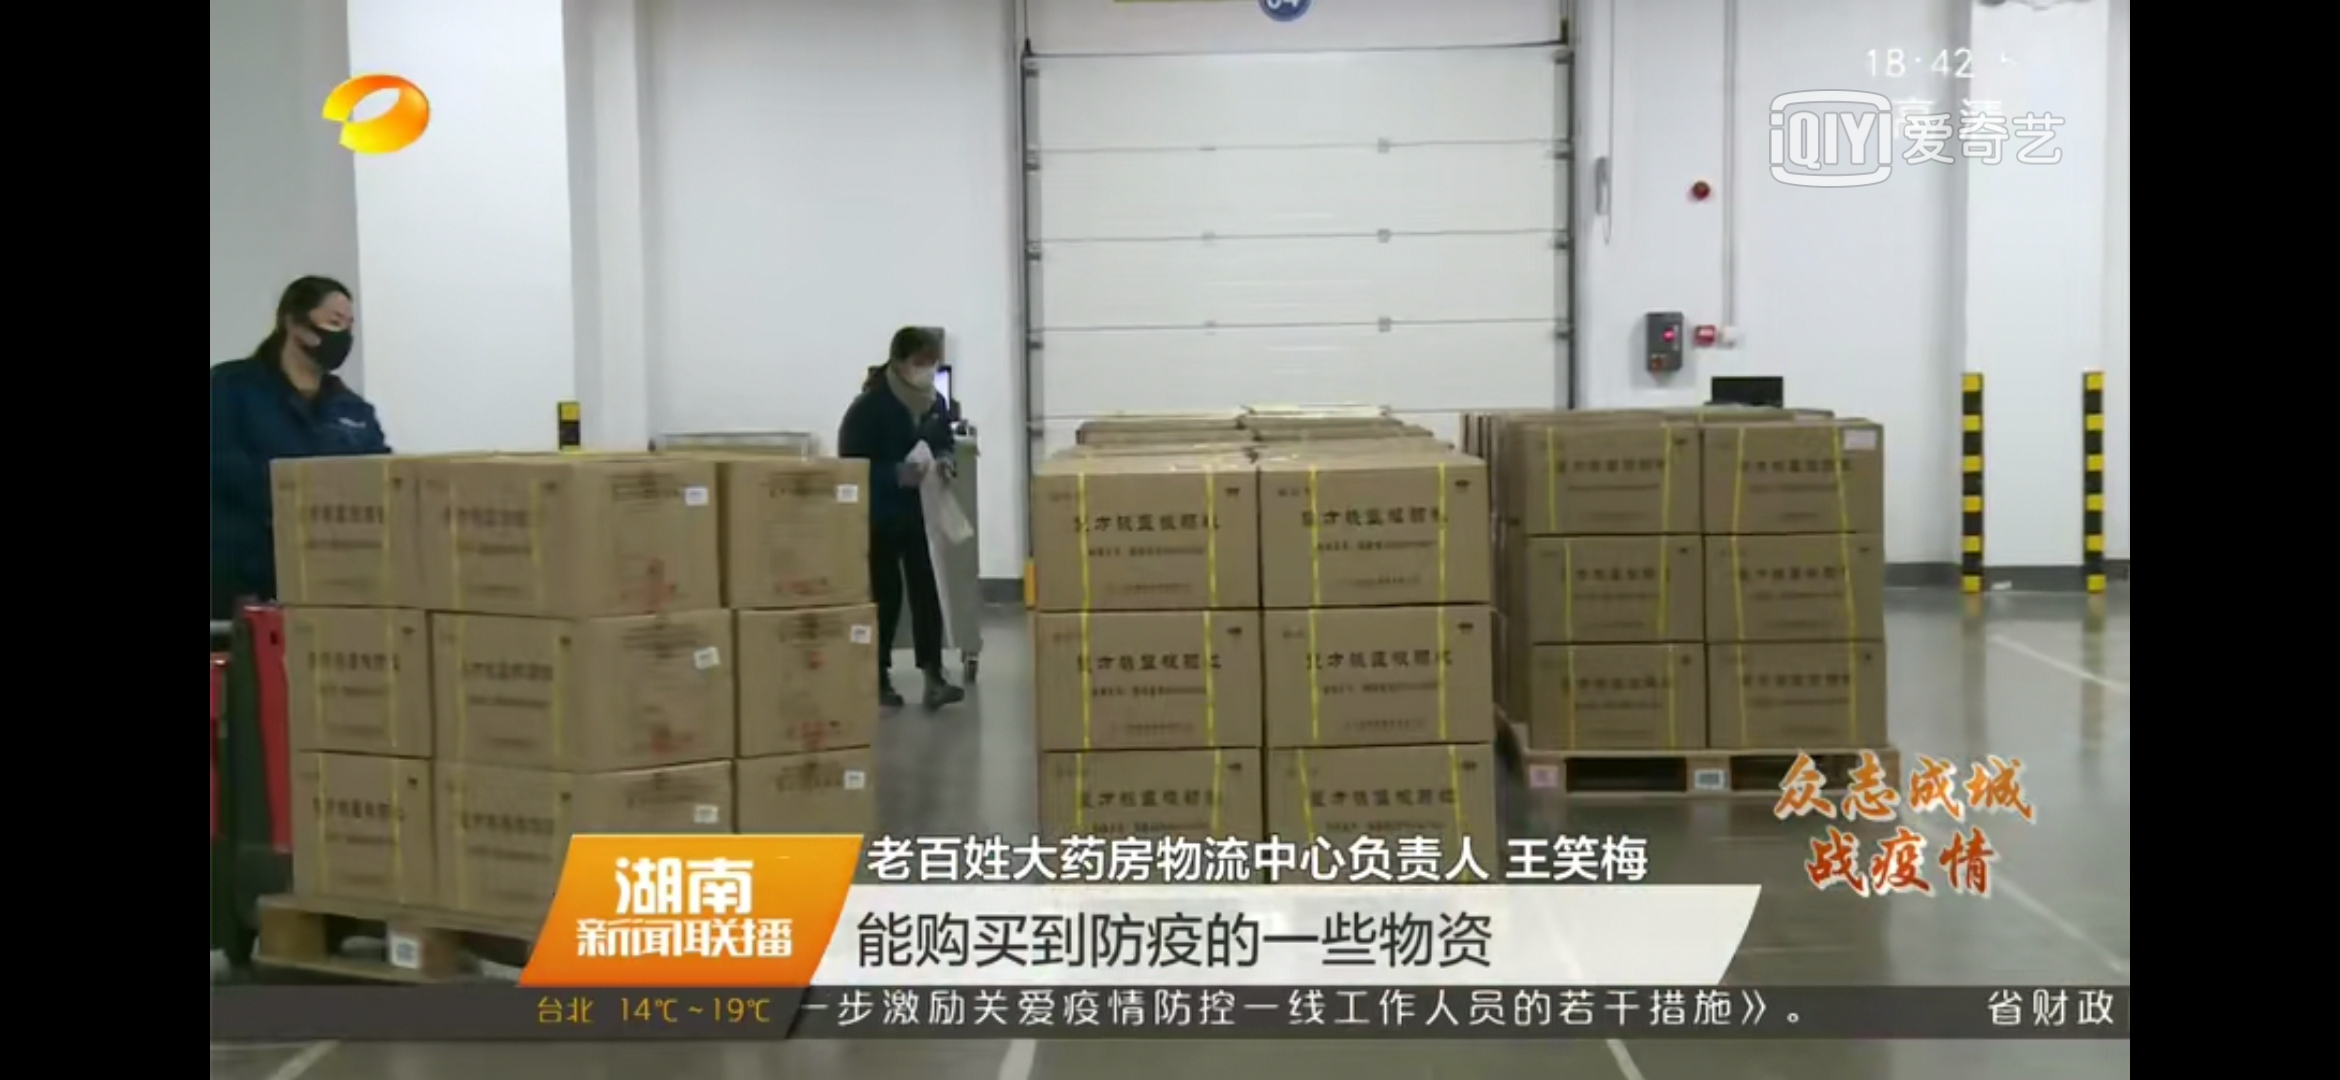correctlyWear: (284, 292, 360, 371), (889, 336, 943, 395)
